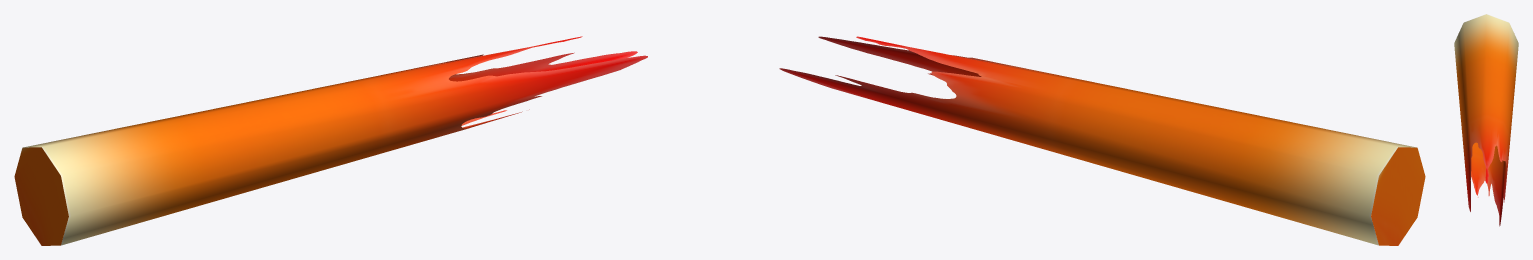
Rendered from yuanzhu3.FBX.
3 views of the same model, side by side, from view 1: azimuth 30°, elevation 25°; view 2: azimuth 150°, elevation 25°; view 3: azimuth 270°, elevation 25° (orthographic). The views are drawn at different scales.
Parts seen in each view (by area): view 1: Cylinder001; view 2: Cylinder001; view 3: Cylinder001.
Boxes of the visible parts, box(x1,y1,x2,y2) form: Cylinder001: box(14, 36, 647, 245); Cylinder001: box(779, 36, 1425, 245); Cylinder001: box(1454, 14, 1518, 226).
Size of the model in its own units: 48.87 by 7.09 by 7.09.
Materials: 1 (1 with a texture image).
